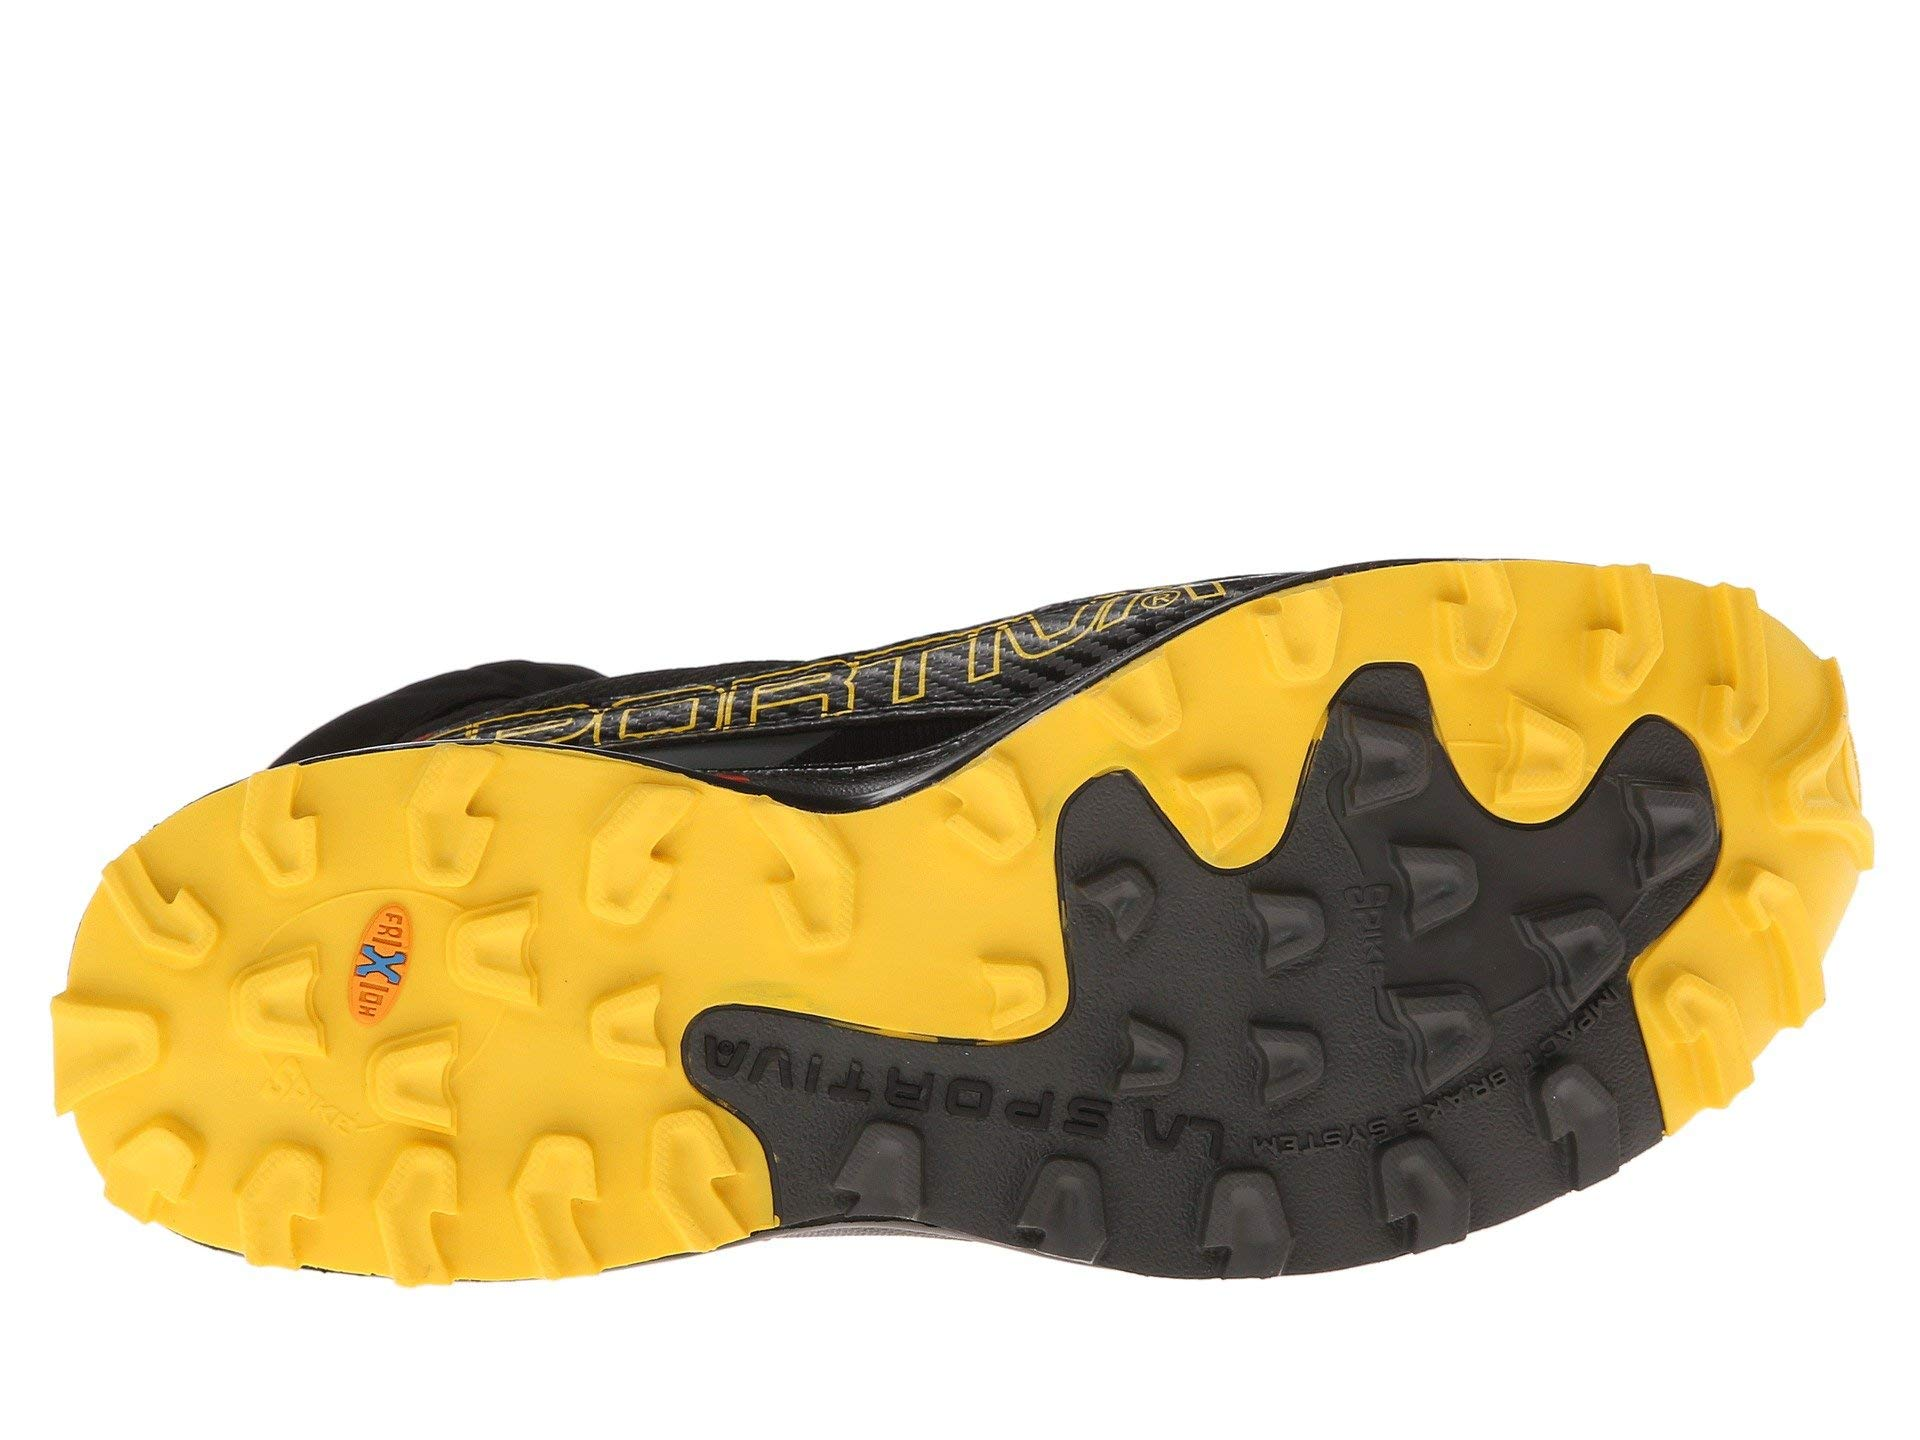circle: (698, 995, 1108, 1192)
line: (1101, 658, 1590, 1035), (698, 995, 1108, 1192)
quad: (1101, 658, 1590, 1035), (336, 888, 420, 1041)
text: (1101, 658, 1590, 1035), (698, 995, 1108, 1192), (336, 888, 420, 1041)
